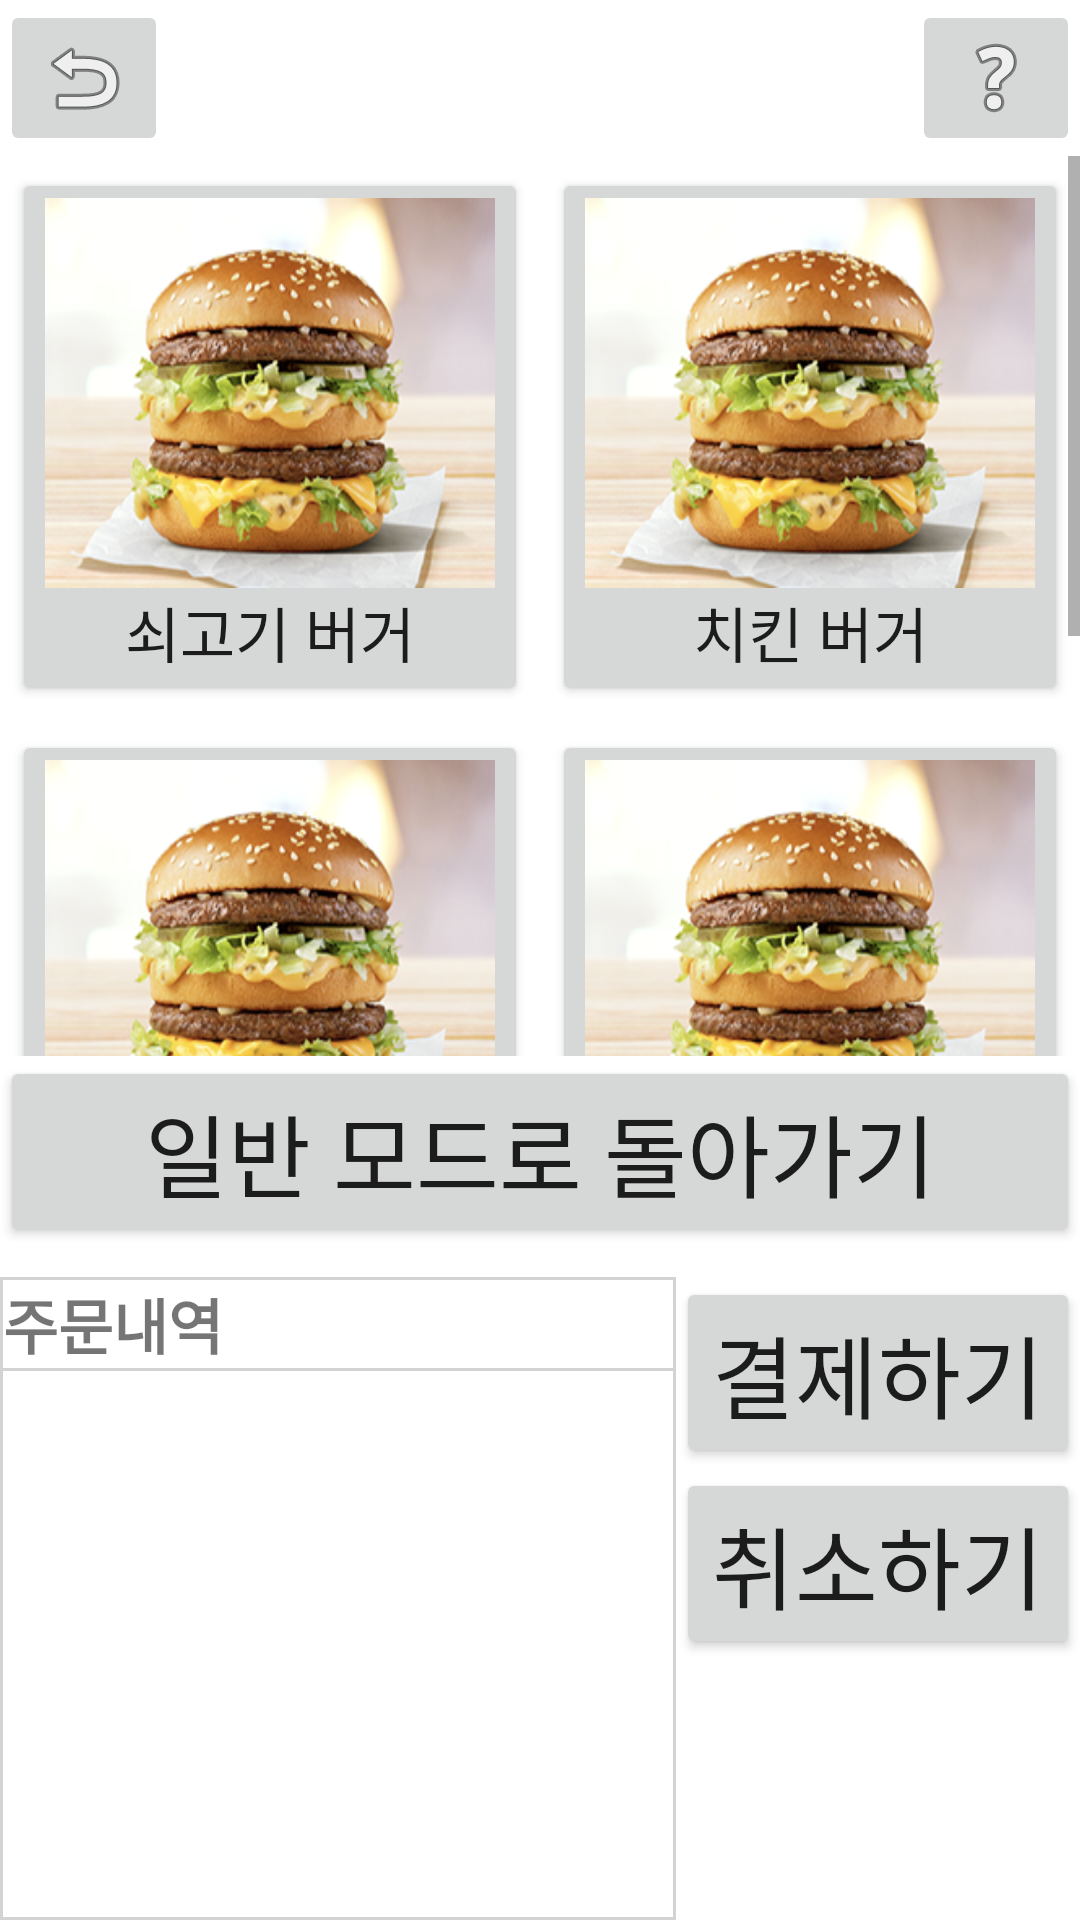

Screen size 1080x1920. Icon name, then its center in pixels as (x=x, y=y):
help: (x=996, y=78)
revert: (x=84, y=78)
